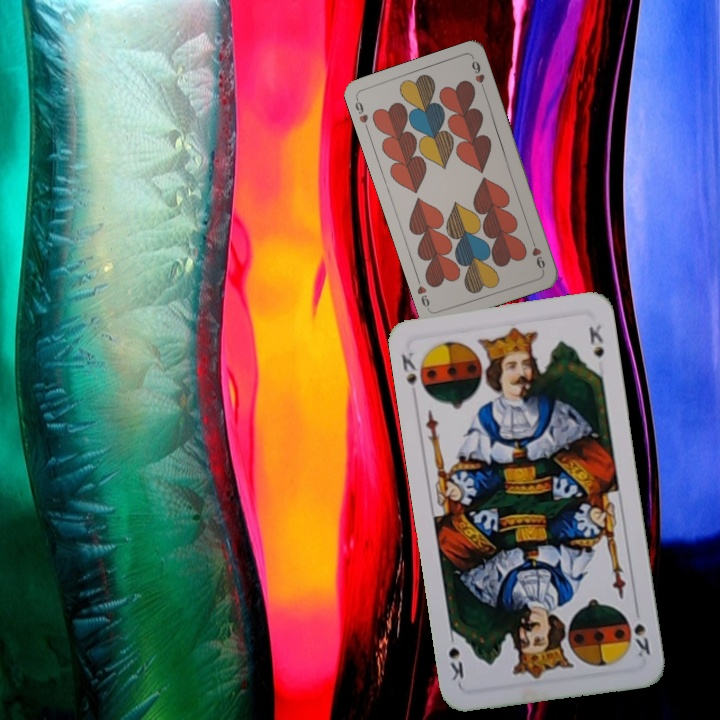H9: (527, 234, 548, 273), (351, 94, 371, 134)
SK: (630, 602, 653, 660), (397, 348, 420, 388)
